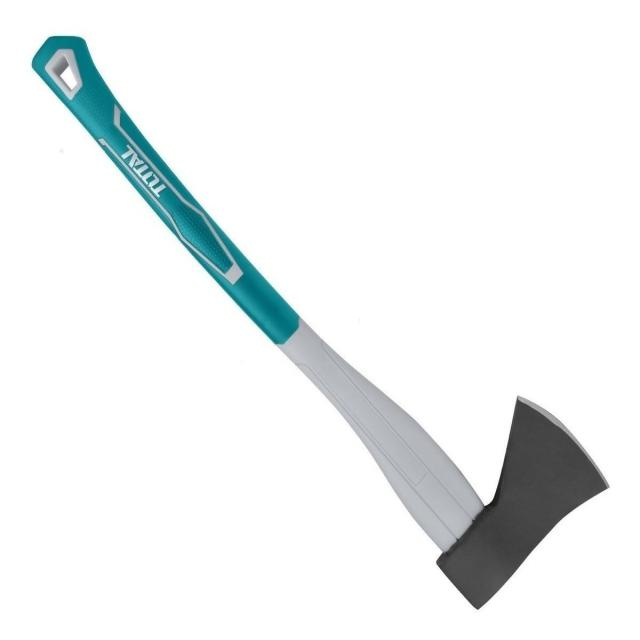Kapak: (20, 19, 598, 580)
